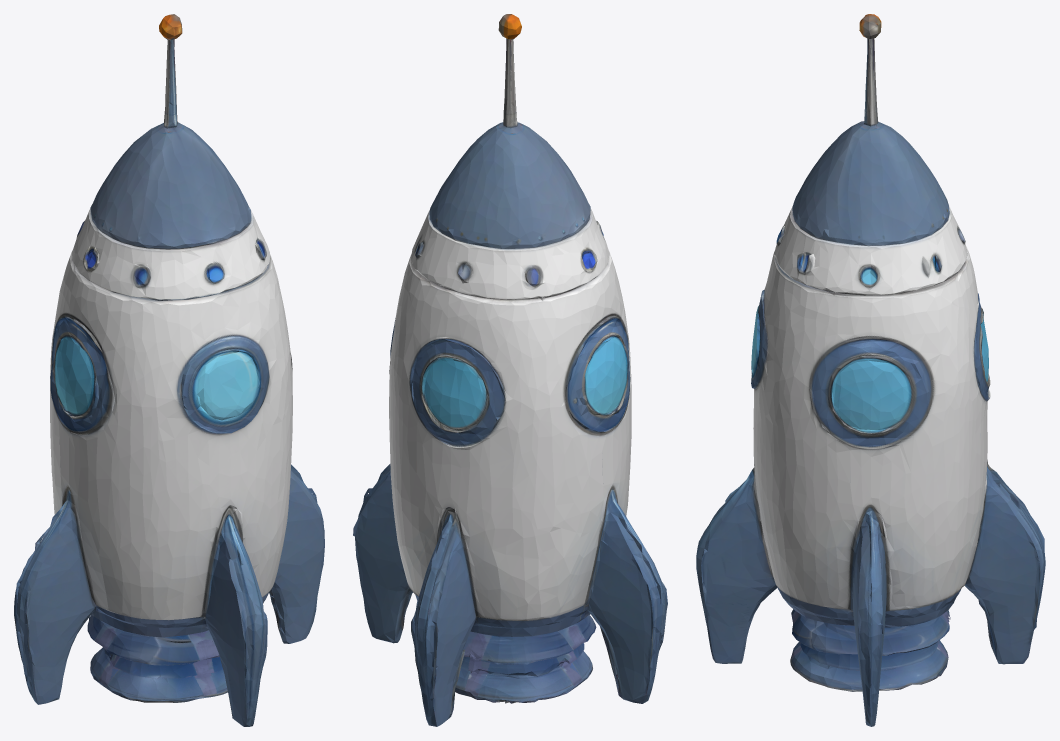
The model's file is Star_Cruiser_0510102639_texture.fbx.
3 renders of one model, left to right at view 1: azimuth 30°, elevation 25°; view 2: azimuth 150°, elevation 25°; view 3: azimuth 270°, elevation 25°, orthographic.
Parts seen in each view (by area): view 1: temp; view 2: temp; view 3: temp.
Part boxes in pixels (left/top/right/bottom): temp: left=14, top=14, right=324, bottom=726; temp: left=353, top=14, right=667, bottom=726; temp: left=696, top=14, right=1045, bottom=726.
Bounding box in the file's own units: 97.91 × 200 × 98.02.
1 material, 1 textured.
